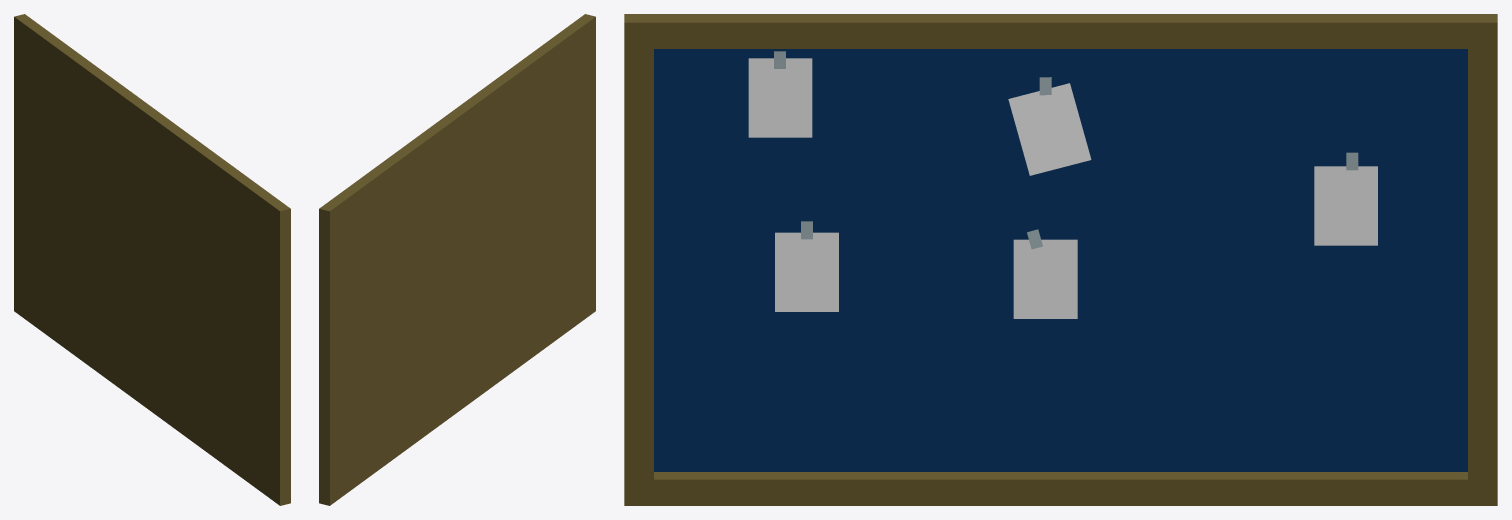
File: board assets.fbx
3 renders of one model, left to right at view 1: azimuth 30°, elevation 25°; view 2: azimuth 150°, elevation 25°; view 3: azimuth 270°, elevation 25°, orthographic. The views are drawn at different scales.
Visible parts, largest first — view 1: polySurface1268; view 2: polySurface1268; view 3: polySurface1268, polySurface1270, polySurface1276, polySurface1272, polySurface1269, polySurface1271.
Part boxes in pixels (left/top/right/bottom): polySurface1268: left=14, top=14, right=290, bottom=505; polySurface1268: left=319, top=14, right=595, bottom=505; polySurface1268: left=624, top=14, right=1497, bottom=505; polySurface1270: left=1008, top=83, right=1091, bottom=175; polySurface1276: left=1013, top=239, right=1077, bottom=318; polySurface1272: left=1314, top=166, right=1377, bottom=245; polySurface1269: left=748, top=58, right=812, bottom=137; polySurface1271: left=775, top=232, right=838, bottom=311.
Bounding box in the file's own units: 110 × 2871 × 4700.
